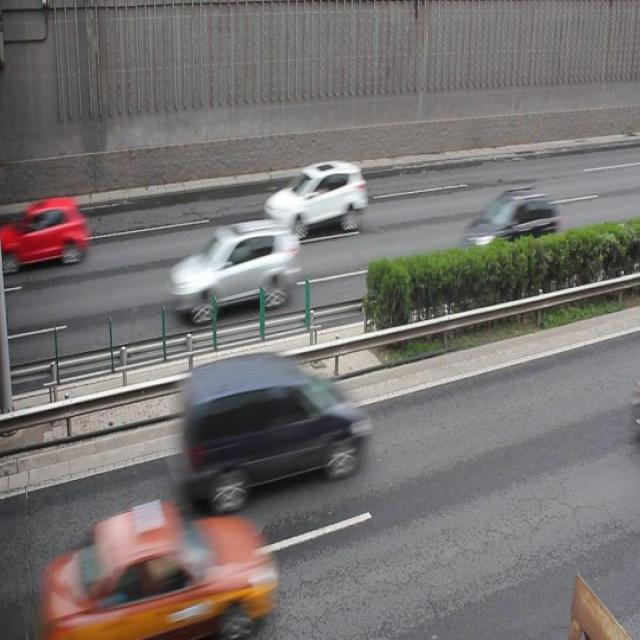car: (64, 500, 274, 640), (179, 351, 363, 502), (171, 218, 296, 321), (264, 158, 365, 236), (462, 189, 557, 263), (15, 195, 87, 268)
